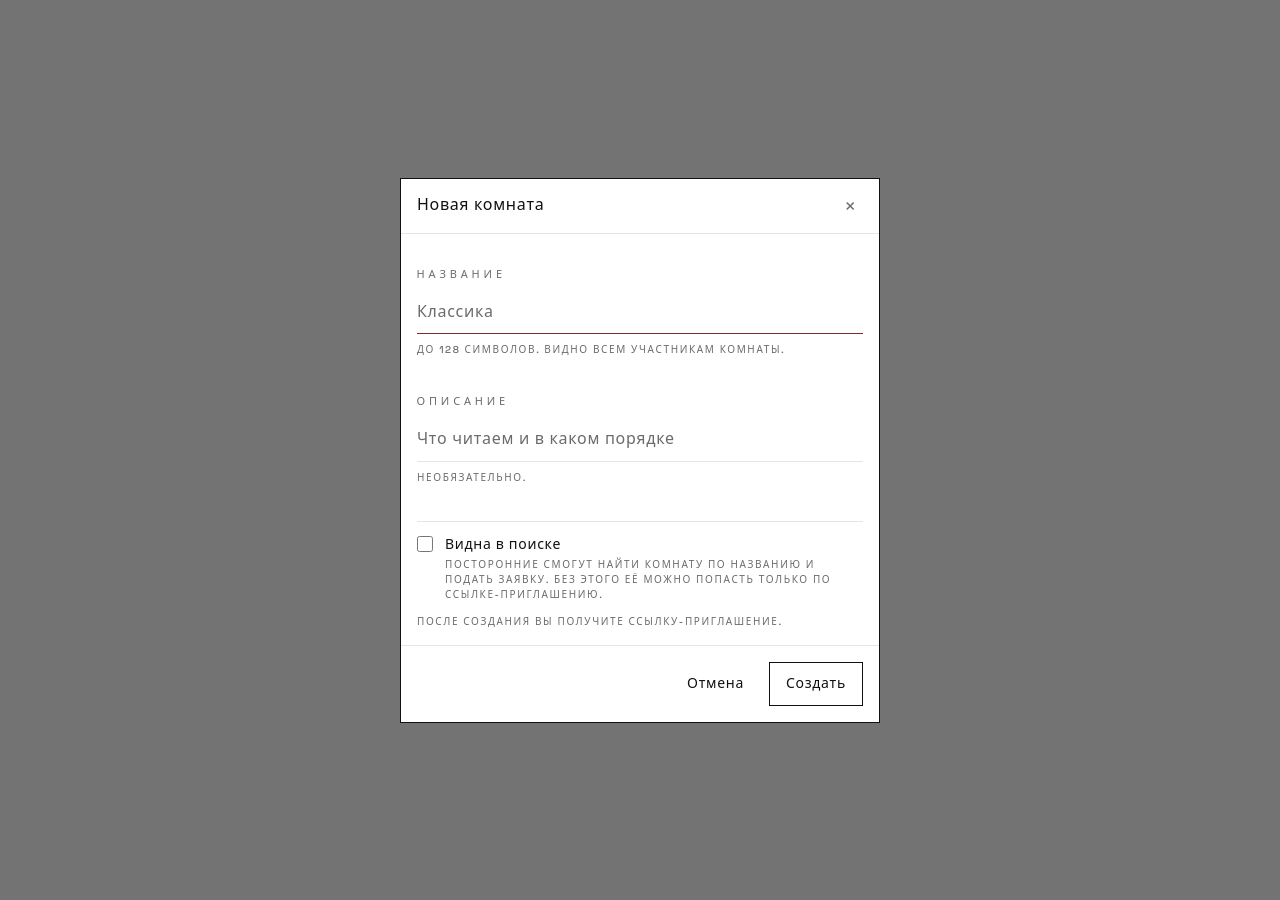
it: форма создания › пустое название не отправляется
The width and height of the screenshot is (1280, 900).
Click the button "Создать": (816, 684) [769,662,863,706]
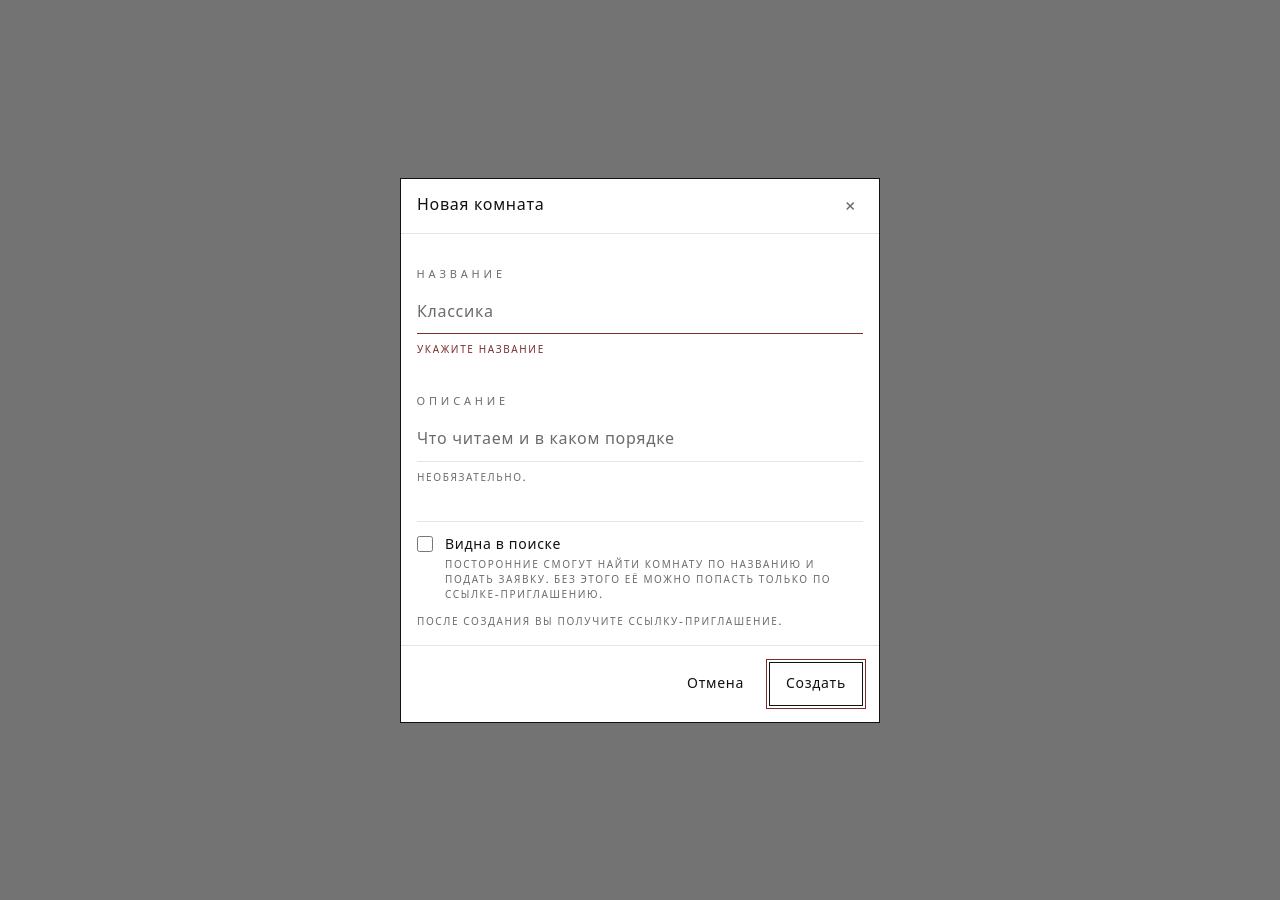
Expected: the message reads "Укажите название", [417,343,545,356]
